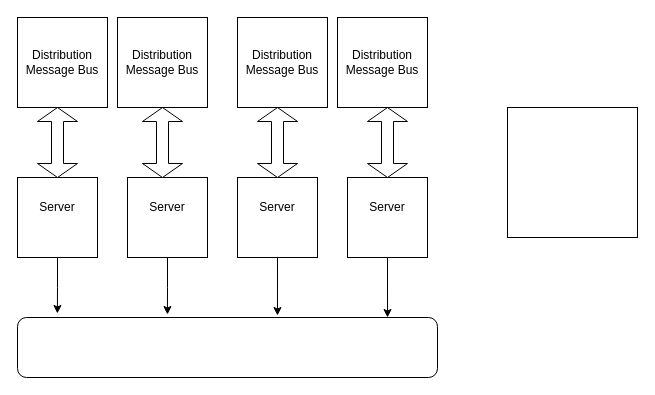
The diagram is 655 pixels wide and 395 high, and some of its shapes have lost their labels. The centre of each missing label's shape, as x and y in pixels:
"Distribution Cache" goes at pixel 227 347.
"Load Balancer" goes at pixel 572 172.
